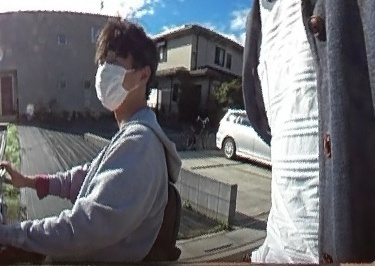person: (10, 23, 168, 266)
